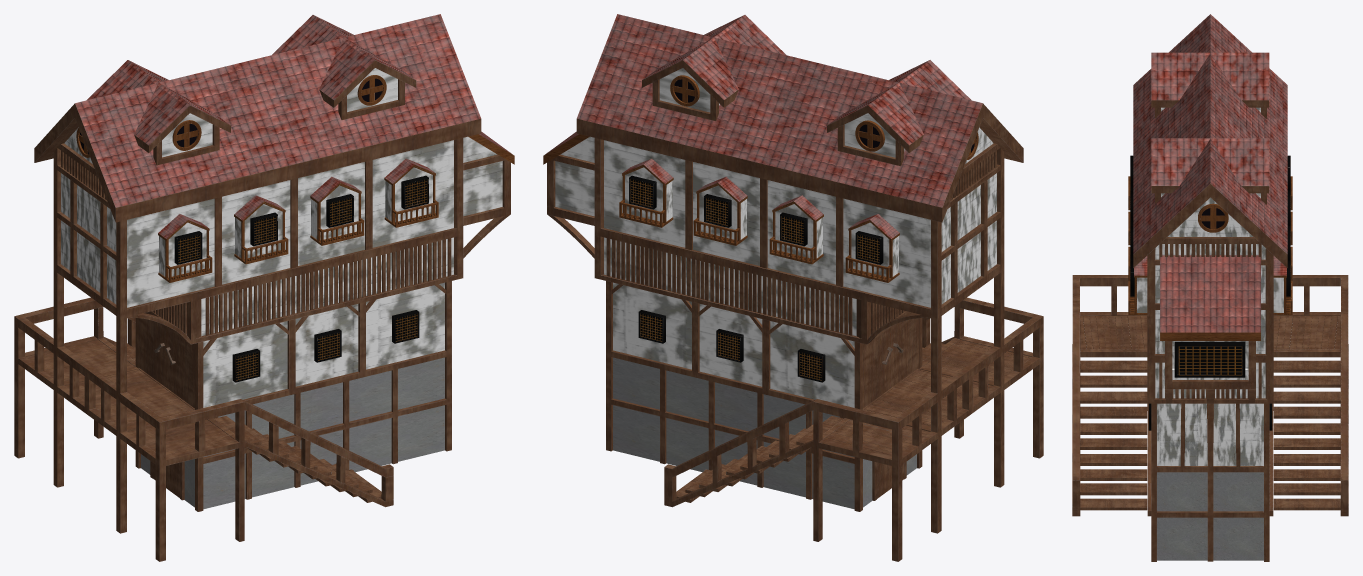
The model's file is house.fbx.
The picture shows the model from 3 angles, left to right: view 1: azimuth 30°, elevation 25°; view 2: azimuth 150°, elevation 25°; view 3: azimuth 270°, elevation 25°; orthographic projection. The views are drawn at different scales.
Visible parts, largest first — view 1: woods2, wall, roof, window, woods; view 2: woods2, wall, roof, window, woods; view 3: roof, woods2, woods, wall, window.
Part boxes in pixels (left/top/right/bottom): woods2: left=14, top=60, right=510, bottom=561; wall: left=61, top=127, right=502, bottom=509; roof: left=75, top=14, right=514, bottom=207; window: left=158, top=75, right=438, bottom=382; woods: left=61, top=150, right=451, bottom=502; woods2: left=547, top=60, right=1043, bottom=561; wall: left=555, top=127, right=996, bottom=509; roof: left=543, top=14, right=982, bottom=207; window: left=619, top=75, right=899, bottom=382; woods: left=606, top=150, right=996, bottom=502; roof: left=1133, top=14, right=1287, bottom=340; woods2: left=1072, top=100, right=1348, bottom=561; woods: left=1080, top=244, right=1340, bottom=510; wall: left=1155, top=197, right=1265, bottom=560; window: left=1128, top=155, right=1292, bottom=430.
Bounding box in the file's own units: 4010 × 3774 × 2430.
5 materials, 5 textured.
